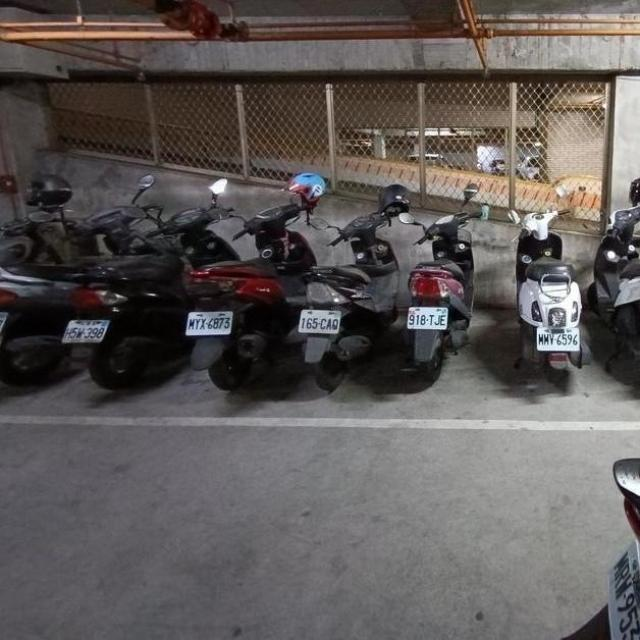W: (182, 303, 236, 340), (60, 310, 112, 348), (296, 303, 344, 338), (534, 323, 581, 354), (406, 301, 450, 332)
